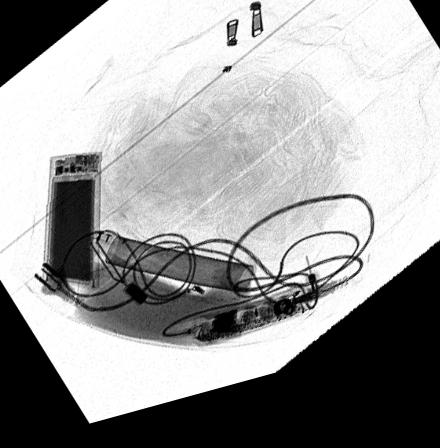Powerbank: (45, 158, 103, 293)
